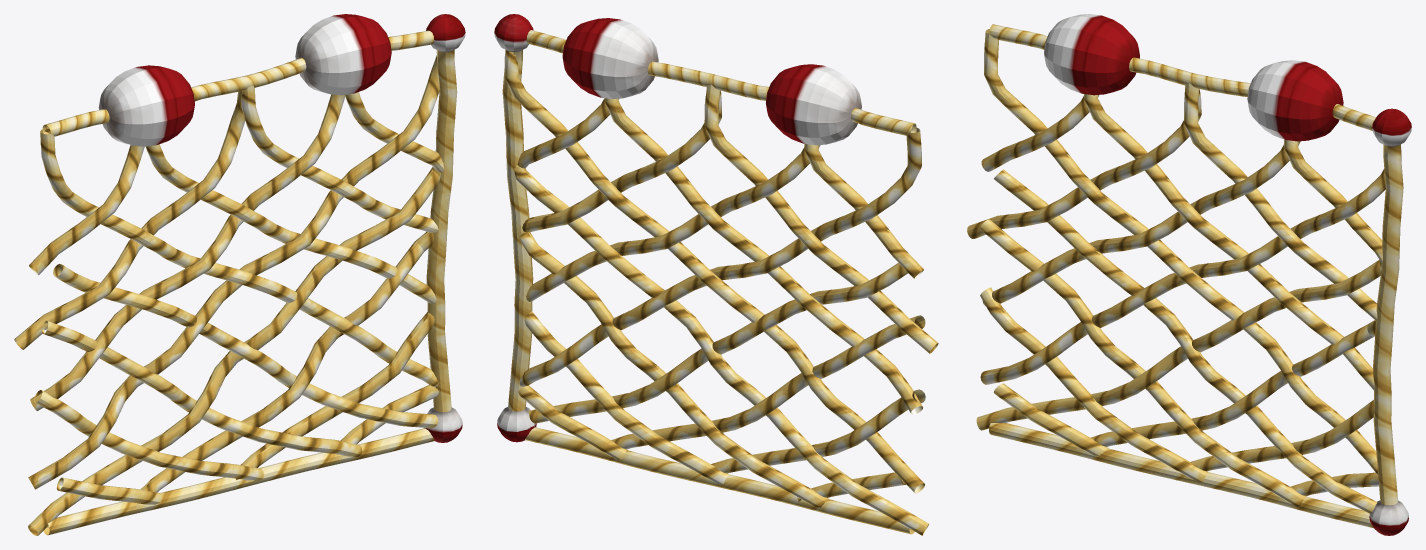
Rendered from Tutorial_Buoy_End1.fbx.
The picture shows the model from 3 angles, left to right: view 1: azimuth 30°, elevation 25°; view 2: azimuth 150°, elevation 25°; view 3: azimuth 330°, elevation 25°; orthographic projection.
Visible parts, largest first — view 1: Tutorial_Buoy_End1; view 2: Tutorial_Buoy_End1; view 3: Tutorial_Buoy_End1.
Boxes of the visible parts, box(x1,y1,x2,y2) form: Tutorial_Buoy_End1: box(14, 14, 465, 535); Tutorial_Buoy_End1: box(494, 14, 938, 535); Tutorial_Buoy_End1: box(967, 14, 1411, 535).
Bounding box in the file's own units: 22.17 × 21.2 × 3.8.
Materials: 1 (1 with a texture image).
